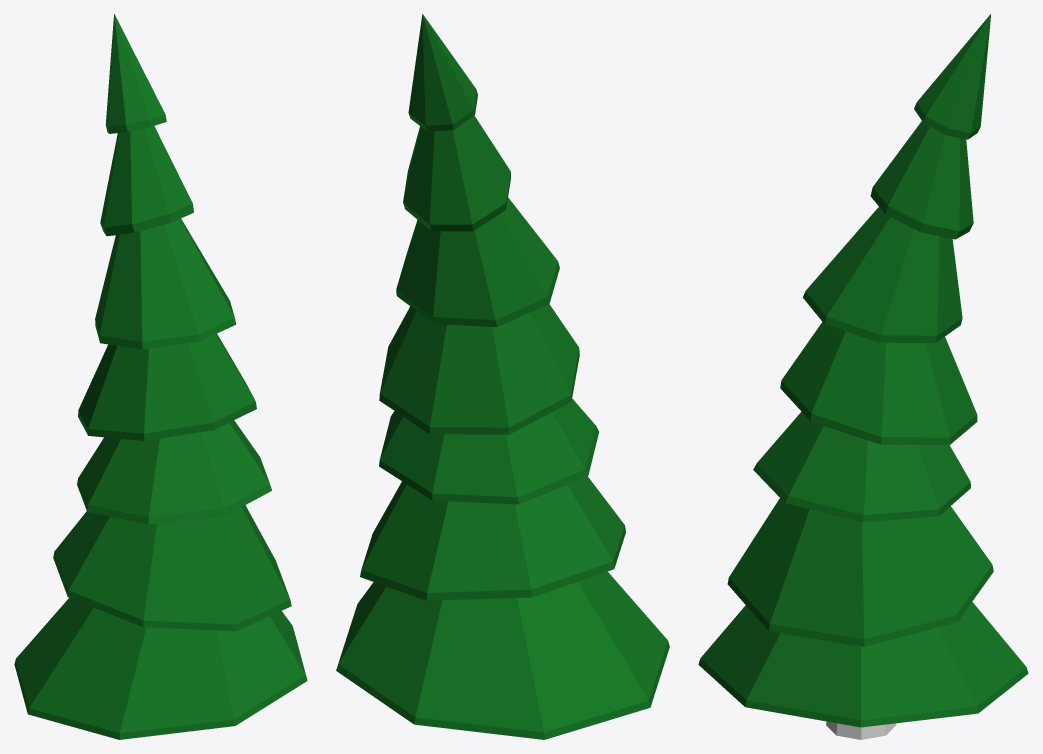
File: LowPolyDrvo1.fbx
3 views of the same model, side by side, from view 1: azimuth 30°, elevation 25°; view 2: azimuth 150°, elevation 25°; view 3: azimuth 270°, elevation 25° (orthographic). The views are drawn at different scales.
Visible parts, largest first — view 1: Drvo01; view 2: Drvo01; view 3: Drvo01.
Boxes of the visible parts, x1=… form: Drvo01: x1=14, y1=14, x2=307, y2=739; Drvo01: x1=336, y1=14, x2=669, y2=739; Drvo01: x1=698, y1=14, x2=1028, y2=739.
Bounding box in the file's own units: 330 × 786 × 331.
